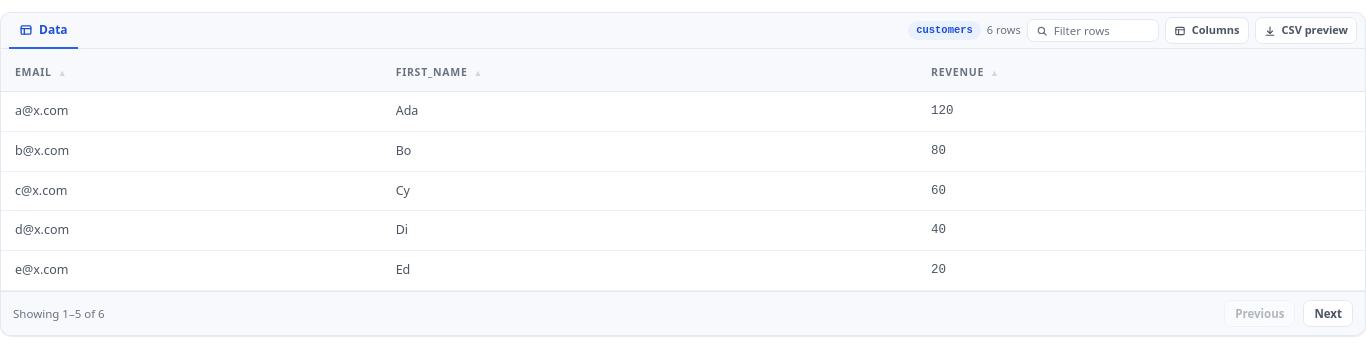
it: ResultCard › paginates at five rows and moves between pages
Check: the text "Showing 1–5 of 6" is shown, box [13,305,105,322]
Check: the text "f@x.com" is not shown
Click the button "Next" at (1328, 313), box [1303,300,1353,327]
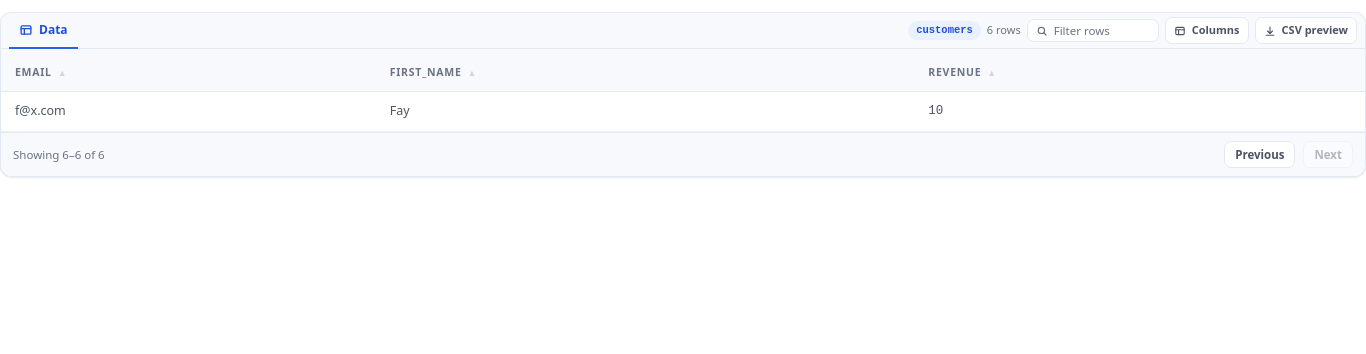
Check: the text "Showing 6–6 of 6" is shown, box [13,146,105,163]
Check: the text "f@x.com" is shown, box [1,92,376,131]
